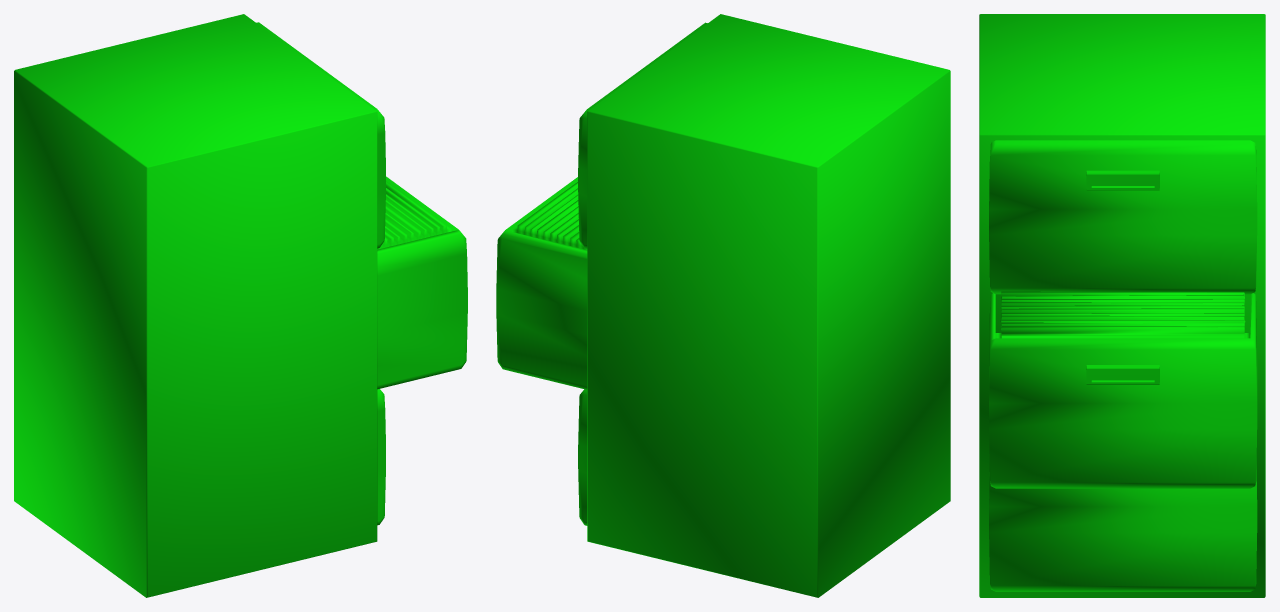
File: Files.fbx
3 views of the same model, side by side, from view 1: azimuth 30°, elevation 25°; view 2: azimuth 150°, elevation 25°; view 3: azimuth 270°, elevation 25° (orthographic). The views are drawn at different scales.
Visible parts, largest first — view 1: Cube.002; view 2: Cube.002; view 3: Cube.002.
Boxes of the visible parts, x1,y1,x2,y2 form: Cube.002: (14,14,467,597); Cube.002: (496,14,950,597); Cube.002: (979,14,1265,597).
Bounding box in the file's own units: 102 × 127 × 71.05.
